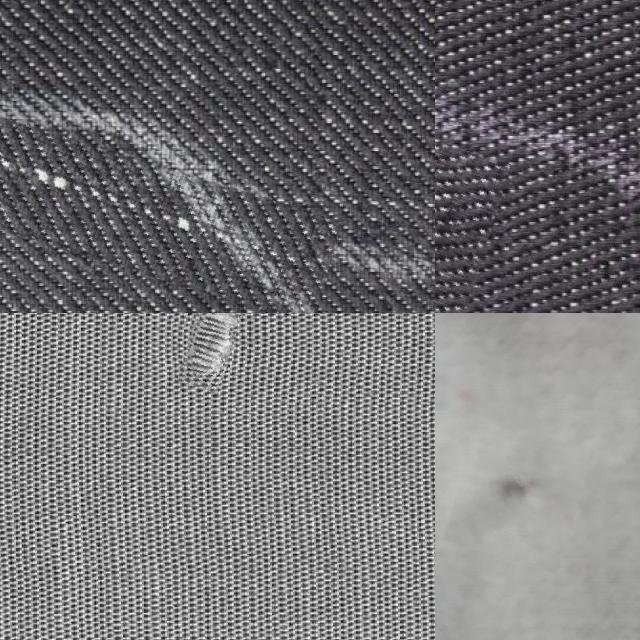other: (451, 422, 587, 566), (182, 313, 237, 390)
stains: (0, 114, 340, 291), (435, 126, 493, 313)
